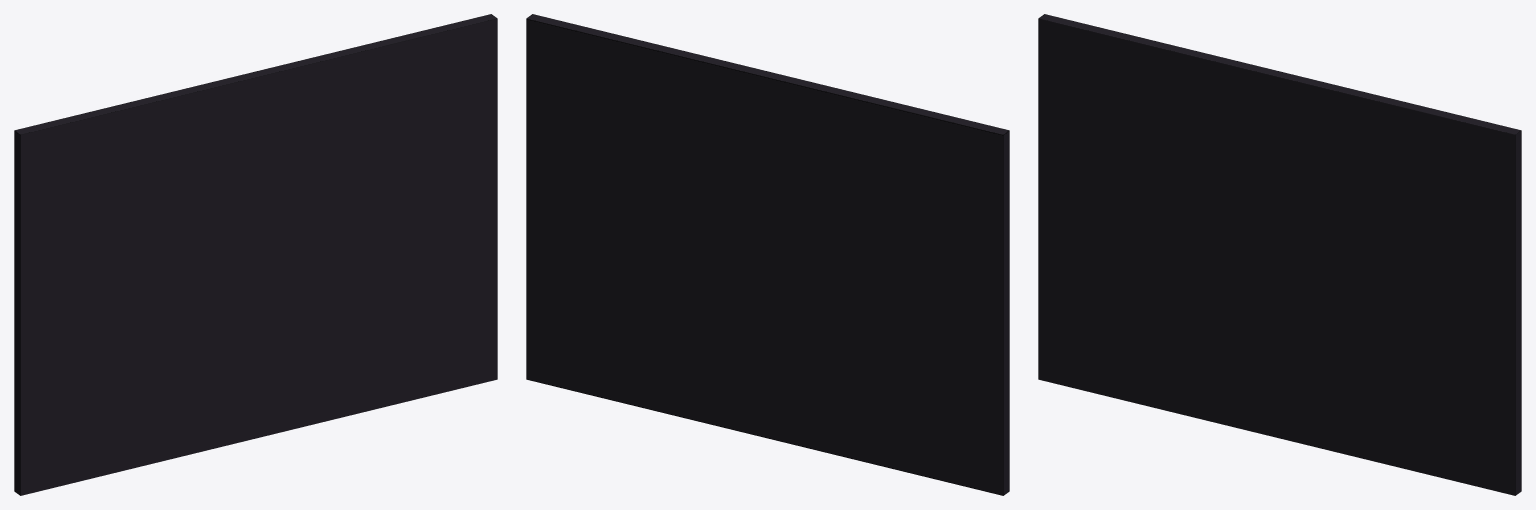
File: PrototypeRoof.gltf
3 views of the same model, side by side, from view 1: azimuth 30°, elevation 25°; view 2: azimuth 150°, elevation 25°; view 3: azimuth 330°, elevation 25° (orthographic).
Parts seen in each view (by area): view 1: roof; view 2: roof; view 3: roof.
Part boxes in pixels (<box>): roof: <box>14,14,497,495</box>; roof: <box>526,14,1009,495</box>; roof: <box>1038,14,1521,495</box>.
Bounding box in the file's own units: 37.88 × 27.37 × 0.875.
Materials: 1 (1 with a texture image).
